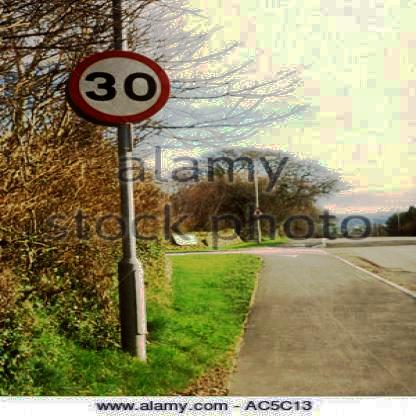Speed Limit -30-: (66, 49, 170, 125)
